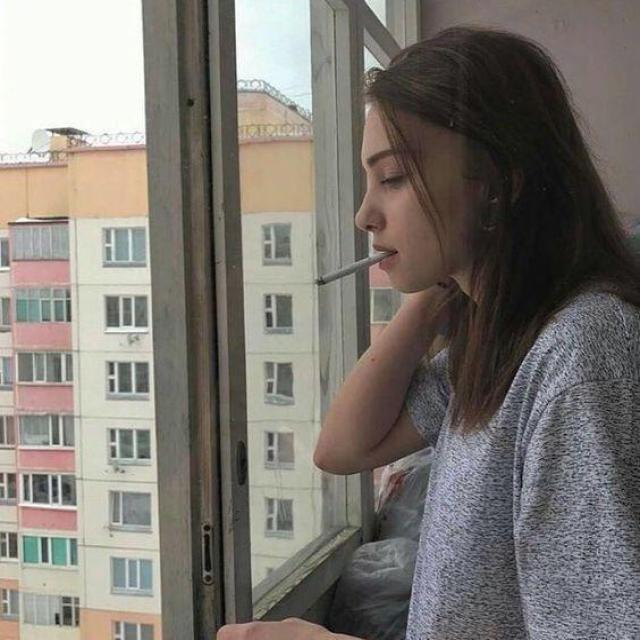cigarette: (300, 252, 392, 293)
